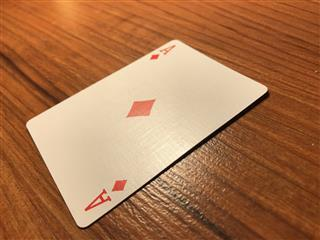AceOfDiamonds: (25, 38, 268, 228)
